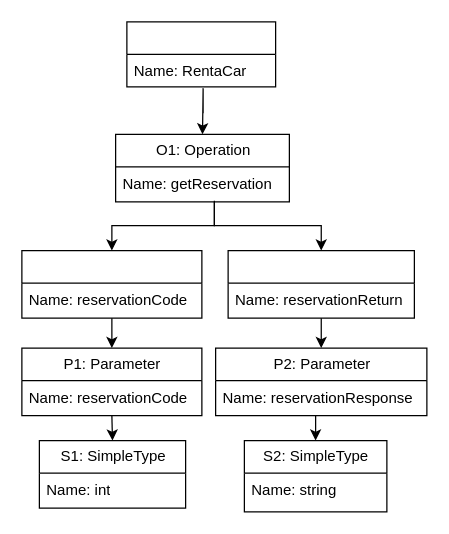
Image size: 449x534. Some labels were removed from this diagram. The box of each missing label's shape, as (x1, y1, x2, y2) in pixels:
I1: Input: (21, 249, 202, 318)
O1: Output: (227, 249, 414, 318)
RentaCar: Inteface: (126, 21, 276, 87)
